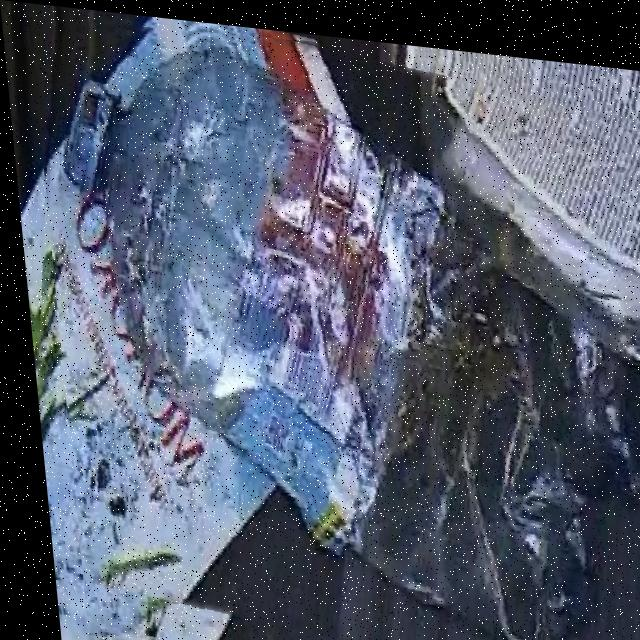plasticbottle: (43, 25, 640, 640)
